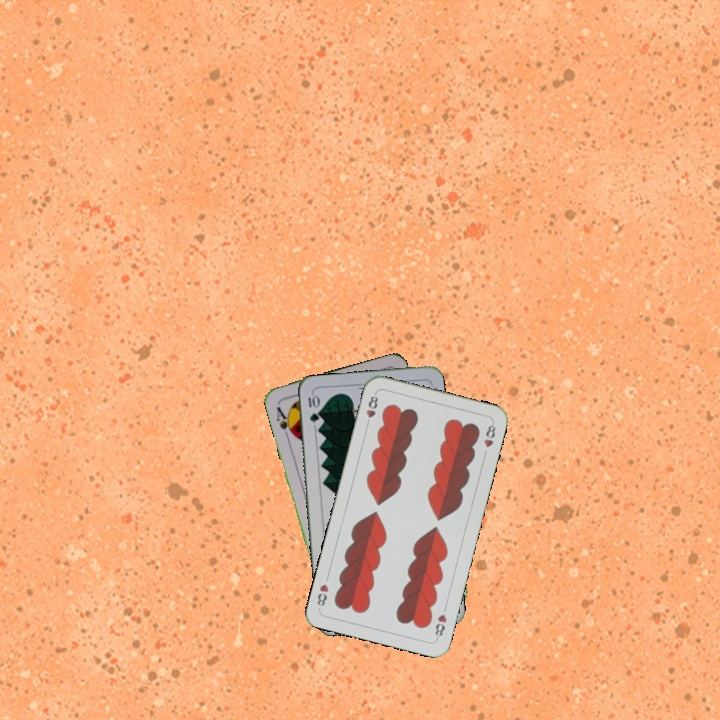G10: (304, 391, 321, 425)
H8: (362, 389, 381, 429), (431, 610, 449, 642)
SA: (272, 402, 297, 440)
